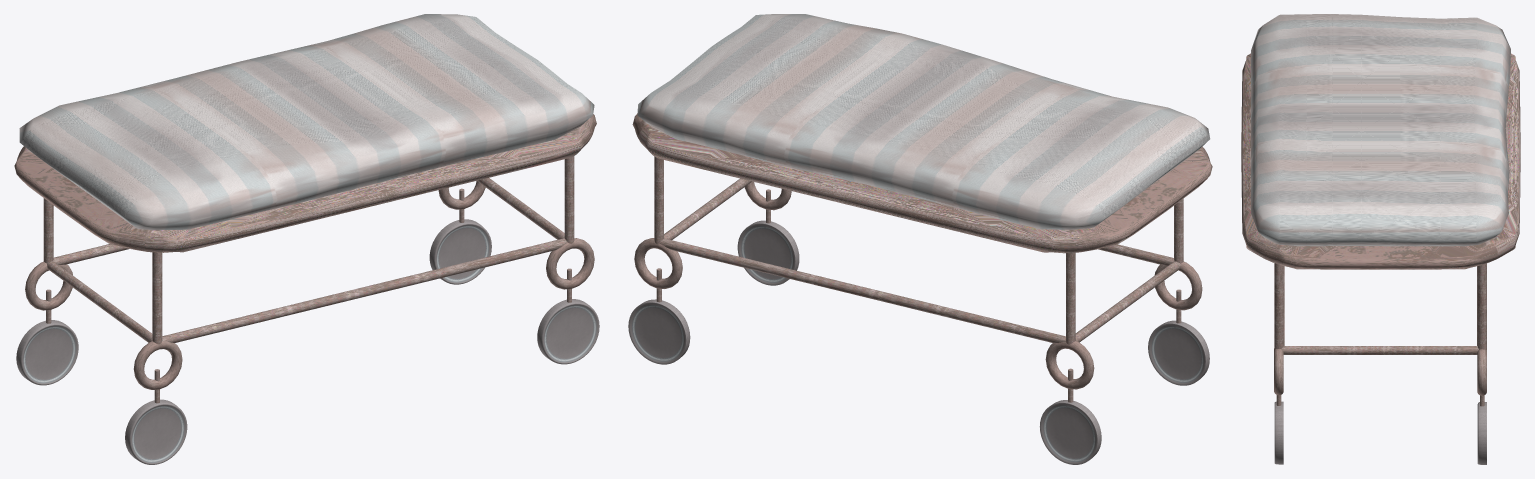
Rendered from stretcher_old.fbx.
3 renders of one model, left to right at view 1: azimuth 30°, elevation 25°; view 2: azimuth 150°, elevation 25°; view 3: azimuth 270°, elevation 25°, orthographic. The views are drawn at different scales.
Visible parts, largest first — view 1: polySurface30, polySurface31, polySurface49, polySurface46, polySurface36, polySurface41, polySurface55, polySurface48, polySurface39, polySurface34, polySurface44, polySurface47 (+5 smaller); view 2: polySurface30, polySurface31, polySurface50, polySurface55, polySurface41, polySurface46, polySurface36, polySurface48, polySurface44, polySurface53, polySurface39, polySurface47 (+5 smaller); view 3: polySurface30, polySurface31, polySurface47, polySurface51, polySurface32, polySurface36, polySurface55, polySurface53, polySurface34.
Part boxes in pixels (box(x1,y1,x2,y2)): polySurface30: box(19, 14, 594, 230); polySurface31: box(14, 114, 596, 252); polySurface49: box(162, 238, 567, 342); polySurface46: box(16, 320, 78, 385); polySurface36: box(537, 299, 599, 364); polySurface41: box(125, 399, 187, 464); polySurface55: box(429, 219, 491, 284); polySurface48: box(47, 261, 152, 342); polySurface39: box(133, 341, 182, 389); polySurface34: box(546, 238, 594, 289); polySurface44: box(25, 261, 72, 310); polySurface47: box(477, 178, 564, 239); polySurface30: box(637, 14, 1210, 229); polySurface31: box(632, 113, 1212, 253); polySurface50: box(659, 238, 1066, 343); polySurface55: box(628, 299, 690, 364); polySurface41: box(1148, 320, 1209, 385); polySurface46: box(1039, 400, 1101, 464); polySurface36: box(737, 220, 799, 285); polySurface48: box(1075, 261, 1180, 342); polySurface44: box(1045, 340, 1094, 389); polySurface53: box(634, 238, 682, 288); polySurface39: box(1154, 261, 1202, 310); polySurface47: box(664, 178, 751, 239); polySurface30: box(1251, 14, 1510, 246); polySurface31: box(1241, 53, 1520, 269); polySurface47: box(1281, 346, 1478, 354); polySurface51: box(1477, 263, 1486, 349); polySurface32: box(1274, 263, 1283, 349); polySurface36: box(1274, 401, 1283, 464); polySurface55: box(1477, 402, 1486, 464); polySurface53: box(1477, 349, 1486, 395); polySurface34: box(1274, 348, 1283, 395).
Size of the model in its own units: 2.58 by 1.37 by 1.34.
3 materials, 3 textured.
